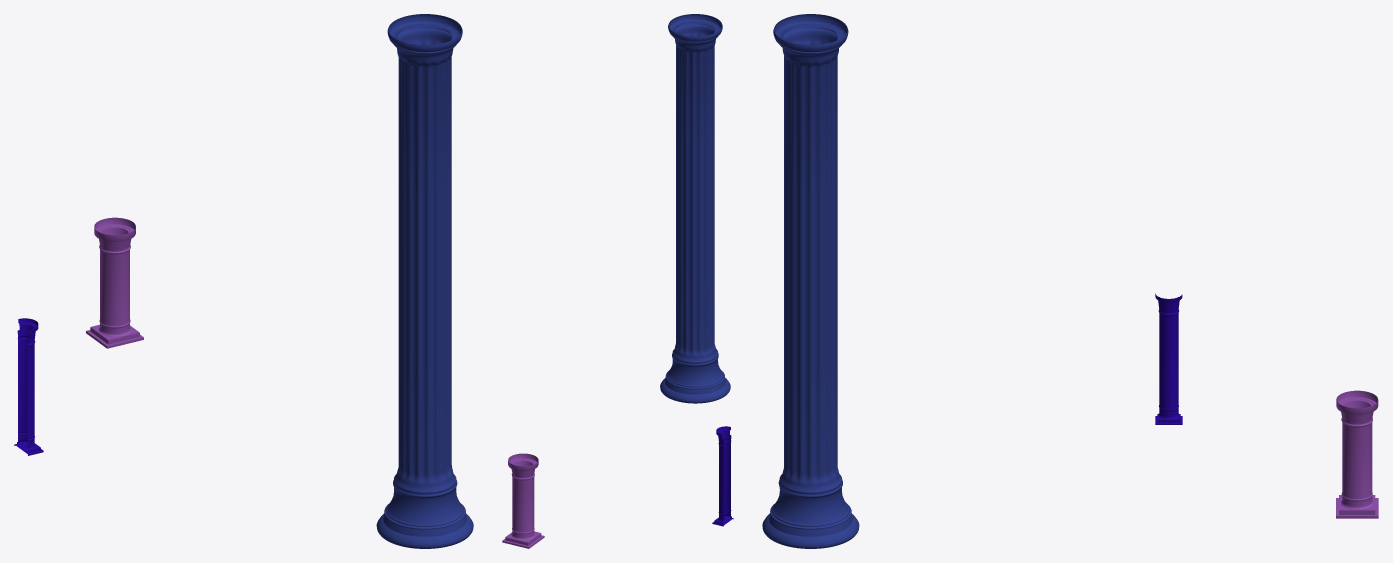
The model's file is Art Columns.FBX.
3 renders of one model, left to right at view 1: azimuth 30°, elevation 25°; view 2: azimuth 150°, elevation 25°; view 3: azimuth 270°, elevation 25°, orthographic. The views are drawn at different scales.
Parts seen in each view (by area): view 1: Column3_mid_Cylinder_013, Column1_middle_Cylinder_010, Column1_middle_Cylinder_012; view 2: Column3_mid_Cylinder_013, Column1_middle_Cylinder_010, Column1_middle_Cylinder_012; view 3: Column3_mid_Cylinder_013, Column1_middle_Cylinder_010, Column1_middle_Cylinder_012.
Boxes of the visible parts, bbox=[...] form: Column3_mid_Cylinder_013: bbox=[376, 14, 473, 548]; Column1_middle_Cylinder_010: bbox=[86, 217, 143, 348]; Column1_middle_Cylinder_012: bbox=[14, 318, 43, 455]; Column3_mid_Cylinder_013: bbox=[660, 14, 730, 403]; Column1_middle_Cylinder_010: bbox=[502, 453, 544, 548]; Column1_middle_Cylinder_012: bbox=[712, 426, 733, 526]; Column3_mid_Cylinder_013: bbox=[762, 14, 859, 548]; Column1_middle_Cylinder_010: bbox=[1336, 390, 1378, 518]; Column1_middle_Cylinder_012: bbox=[1155, 293, 1182, 424].
Bounding box in the file's own units: 16.6 × 29.69 × 33.19.
